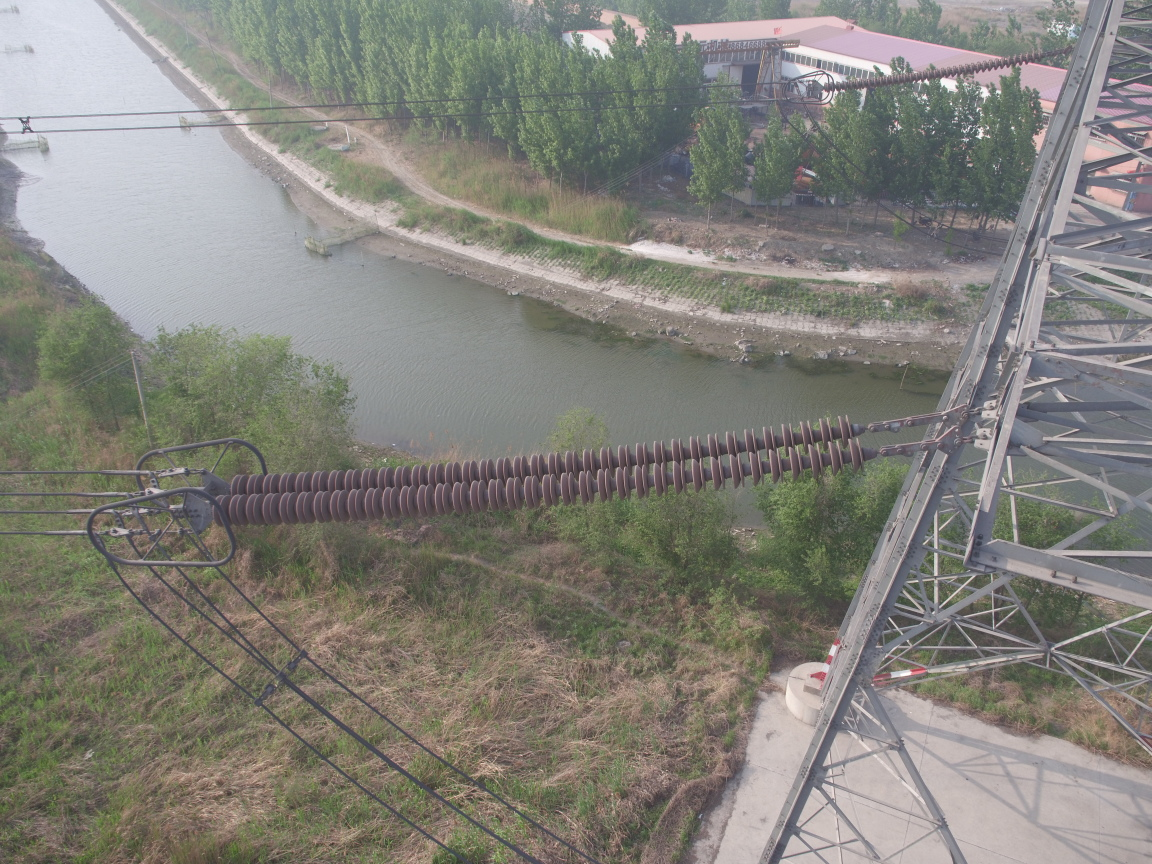insulator: (197, 410, 923, 531), (816, 42, 1075, 93)
